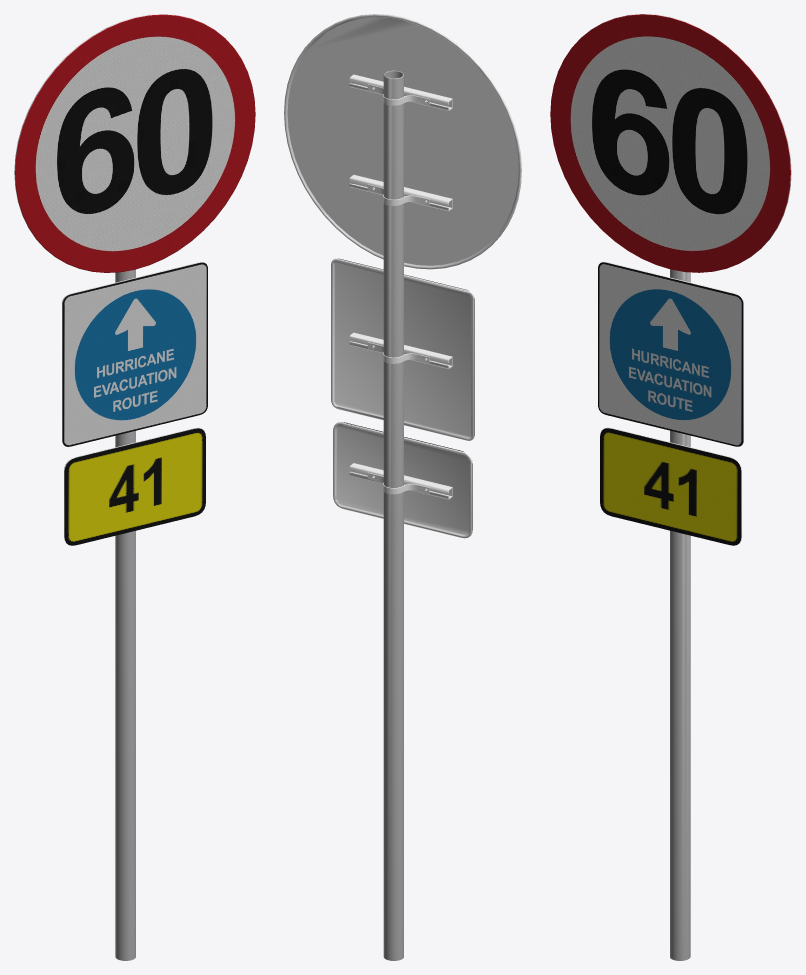
Rendered from sign-eu-01.glb.
3 views of the same model, side by side, from view 1: azimuth 30°, elevation 25°; view 2: azimuth 150°, elevation 25°; view 3: azimuth 330°, elevation 25° (orthographic).
Parts seen in each view (by area): view 1: vm_ST_sign_01; view 2: vm_ST_sign_01; view 3: vm_ST_sign_01.
Boxes of the visible parts, <box> form: vm_ST_sign_01: <box>14,14,255,960</box>; vm_ST_sign_01: <box>284,14,521,960</box>; vm_ST_sign_01: <box>550,14,791,960</box>.
Bounding box in the file's own units: 0.7676 × 2.88 × 0.0846.
Materials: 5 (3 with a texture image).
